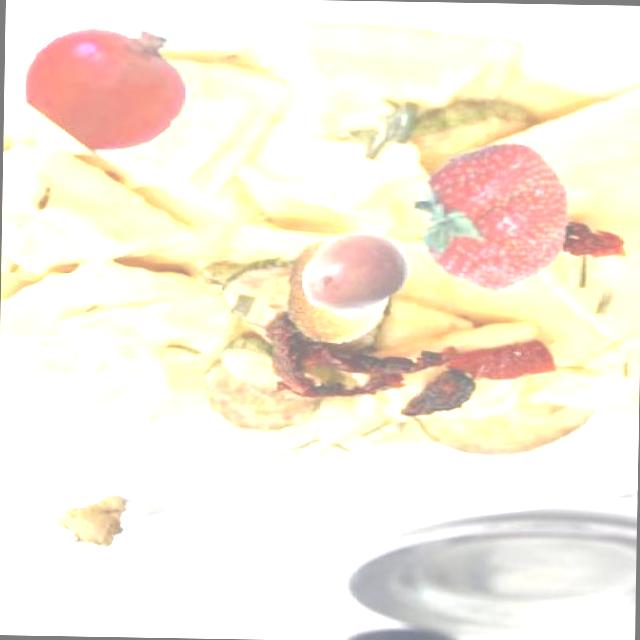Apple: (23, 28, 190, 150)
Strawberry: (388, 136, 596, 295)
